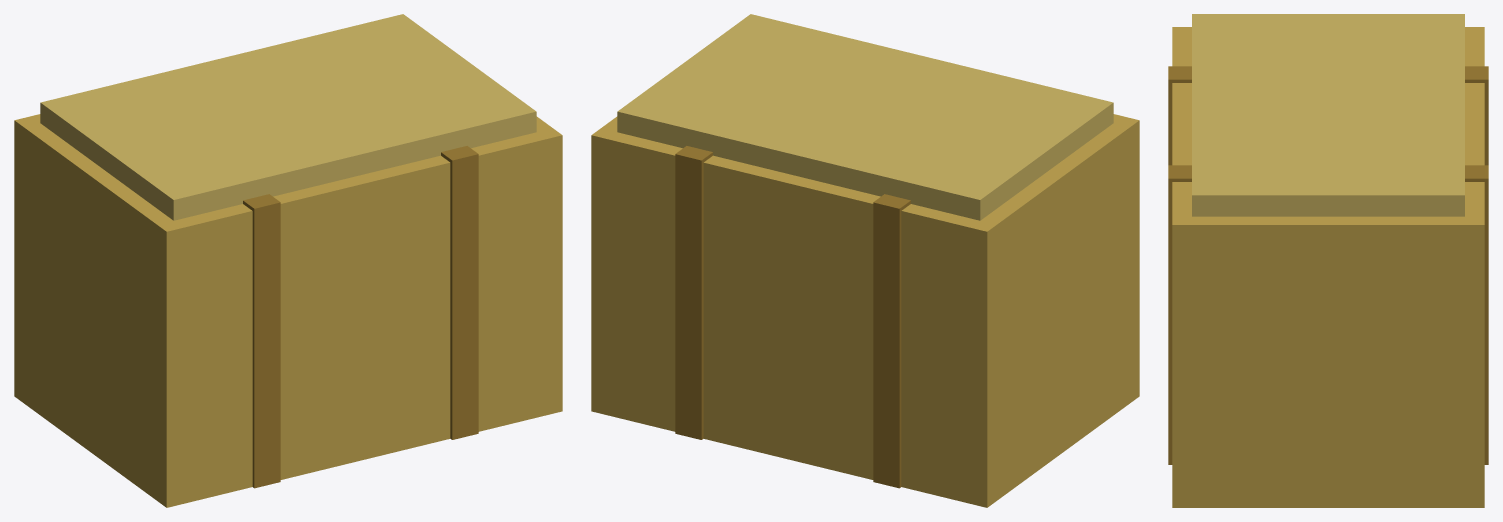
Rendered from xma-hay-bale.glb.
The picture shows the model from 3 angles, left to right: view 1: azimuth 30°, elevation 25°; view 2: azimuth 150°, elevation 25°; view 3: azimuth 270°, elevation 25°; orthographic projection. The views are drawn at different scales.
Visible parts, largest first — view 1: box-prop; view 2: box-prop; view 3: box-prop.
Boxes of the visible parts, bbox=[...] form: box-prop: bbox=[14, 14, 562, 507]; box-prop: bbox=[591, 14, 1139, 507]; box-prop: bbox=[1168, 14, 1488, 507].
Bounding box in the file's own units: 1.2 × 0.86 × 0.82.
